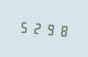eight: (54, 20, 65, 38)
five: (18, 17, 29, 35)
nine: (42, 19, 53, 37)
two: (30, 18, 41, 36)
